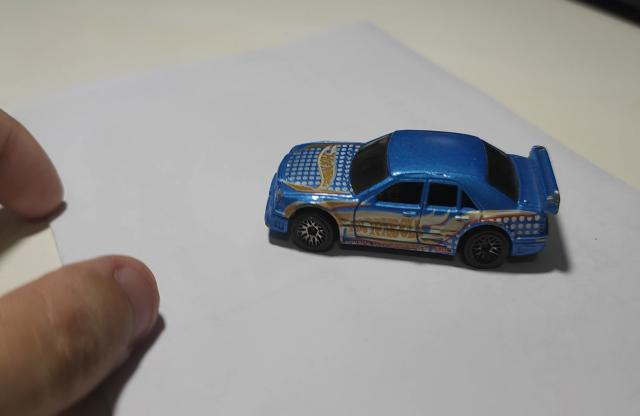04_MERZEDES: (264, 130, 559, 272)
